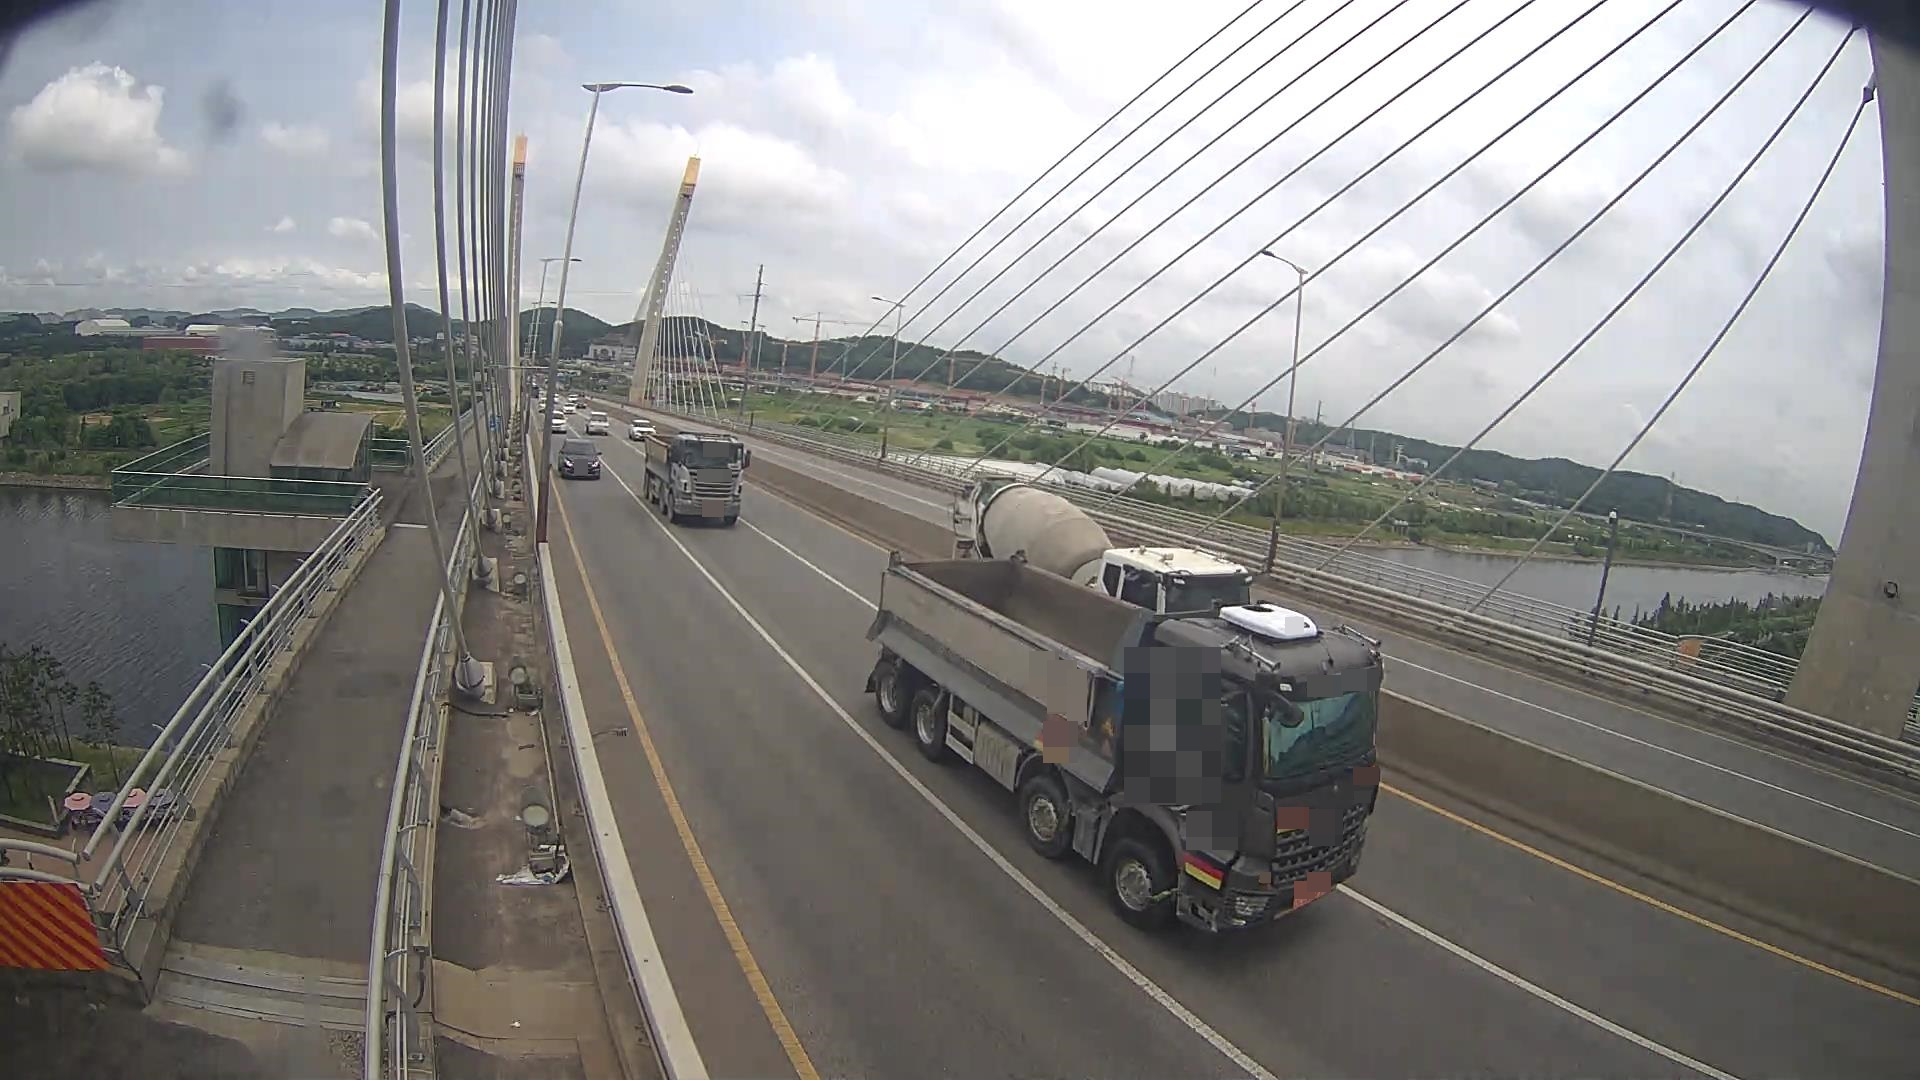정상차량: (864, 549, 1387, 933)
